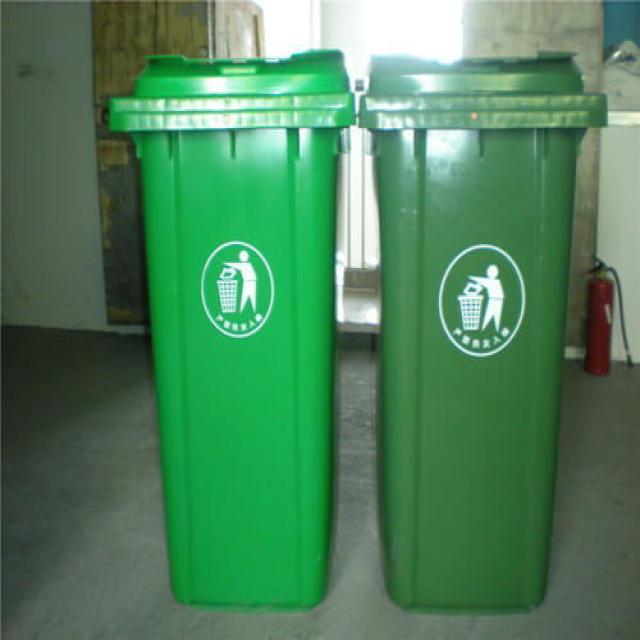garbage_bin: (357, 53, 608, 609), (107, 50, 356, 608)
